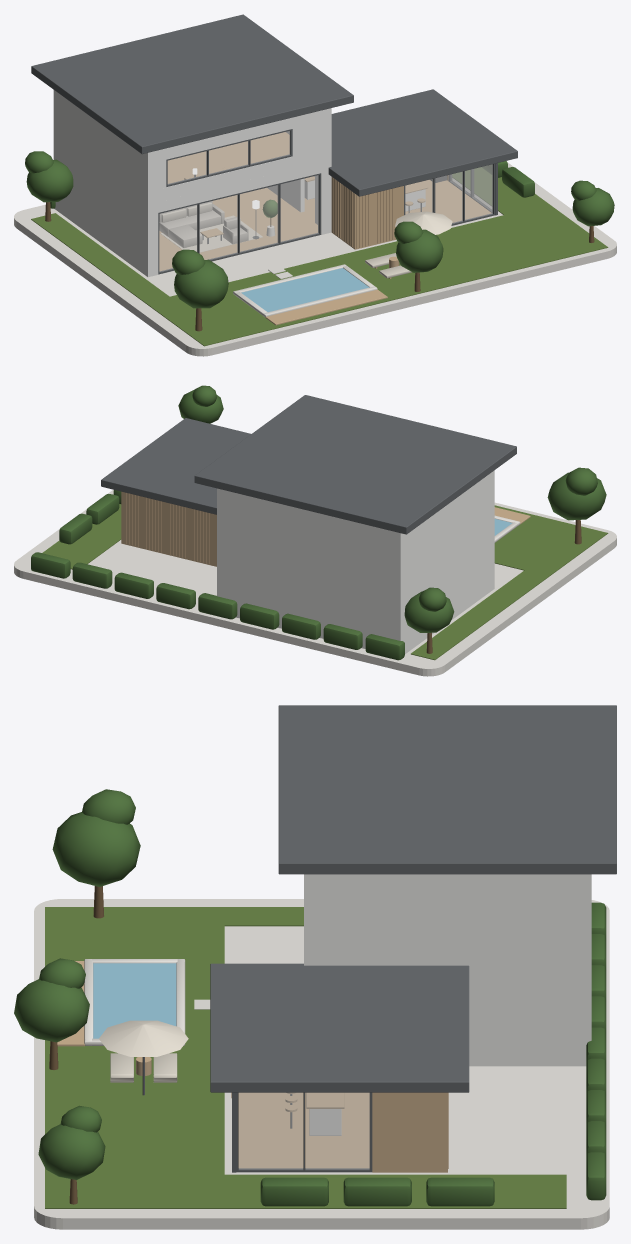
File: car.glb
3 views of the same model, one above another, from view 1: azimuth 30°, elevation 25°; view 2: azimuth 150°, elevation 25°; view 3: azimuth 270°, elevation 25° (orthographic). The views are drawn at different scales.
Visible parts, largest first — view 1: Main_Roof, Lawn_Front, Plinth, Wing_Roof, MainWall_L, Main_FloorGF, Lawn_Left, Pool_Water, Main_FloorUp, MainWall_FUSill, Glass_Slider3, MainWall_FUTop (+34 smaller); view 2: Main_Roof, MainWall_Back, Plinth, MainWall_L, Wing_Roof, Lawn_Front, Lawn_Left, WingWall_Back, Lawn_Right, TreeA_Crown1, TreeC_Crown1, TreeB_Crown1 (+15 smaller); view 3: Main_Roof, Plinth, Lawn_Front, Wing_Roof, MainWall_R2, Wing_Floor, Lawn_Right, Pool_Water, TreeA_Crown1, Glass_WingS1, Glass_WingS2, MainWall_R3 (+16 smaller).
Boxes of the visible parts, x1,y1,x2,y2 form: Main_Roof: (31, 14, 353, 154); Lawn_Front: (145, 204, 608, 346); Plinth: (14, 162, 616, 356); Wing_Roof: (328, 89, 517, 196); MainWall_L: (53, 90, 151, 276); Main_FloorGF: (159, 188, 317, 270); Lawn_Left: (31, 213, 169, 302); Pool_Water: (241, 268, 369, 312); Main_FloorUp: (167, 132, 289, 183); MainWall_FUSill: (146, 147, 331, 204); Glass_Slider3: (240, 185, 278, 252); MainWall_FUTop: (146, 108, 331, 163); Main_Roof: (194, 395, 516, 534); MainWall_Back: (217, 489, 402, 648); Plinth: (14, 489, 616, 676); MainWall_L: (397, 470, 494, 653); Wing_Roof: (101, 418, 250, 514); Lawn_Front: (494, 505, 608, 576); Lawn_Left: (411, 570, 549, 660); WingWall_Back: (121, 492, 216, 566); Lawn_Right: (42, 504, 121, 569); TreeA_Crown1: (547, 472, 606, 520); TreeC_Crown1: (404, 591, 454, 632); TreeB_Crown1: (178, 389, 223, 423); Main_Roof: (278, 705, 616, 874); Plinth: (34, 899, 609, 1229); Lawn_Front: (45, 907, 224, 1208); Wing_Roof: (210, 963, 469, 1092); MainWall_R2: (386, 874, 591, 1066); Wing_Floor: (238, 1092, 369, 1168); Lawn_Right: (224, 1174, 566, 1208); Pool_Water: (93, 963, 176, 1038); TreeA_Crown1: (52, 812, 140, 886); Glass_WingS1: (239, 1093, 302, 1168); Glass_WingS2: (306, 1093, 369, 1168); MainWall_R3: (343, 874, 386, 965).
Size of the model in its own units: 21.04 by 6.9 by 16.76.
